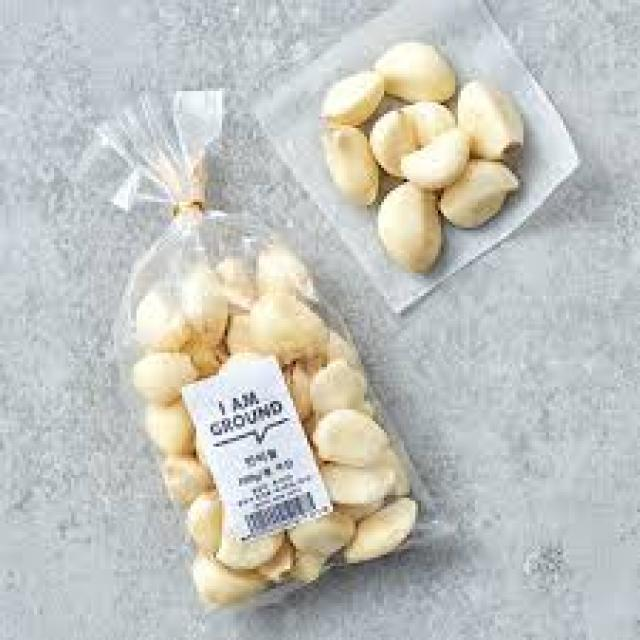Garlic bulb: (321, 43, 526, 273)
